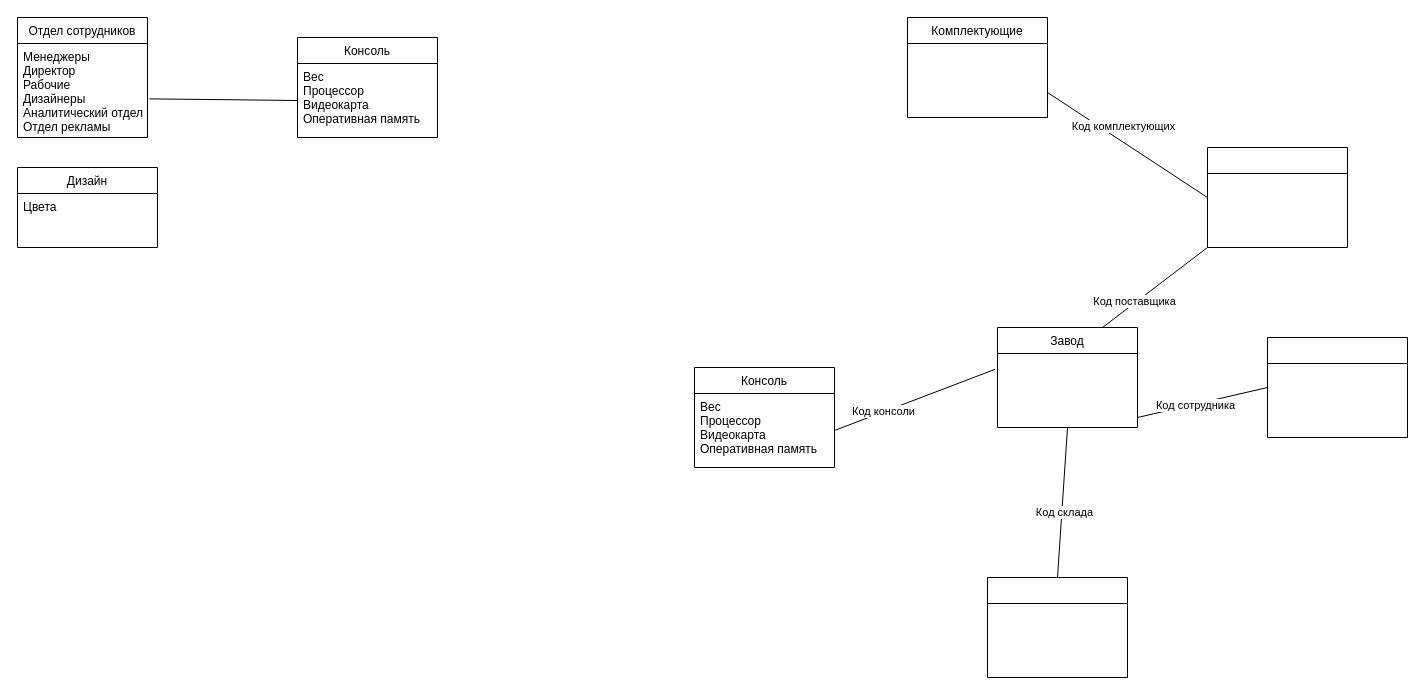
Image size: 1425x695. Some labels were removed from this diagram. Each missing label, with the centre of its shape:
"Поставщик" belongs at pixel 1277 197.
"Склад" belongs at pixel 1057 627.
"Сотрудник" belongs at pixel 1337 387.
